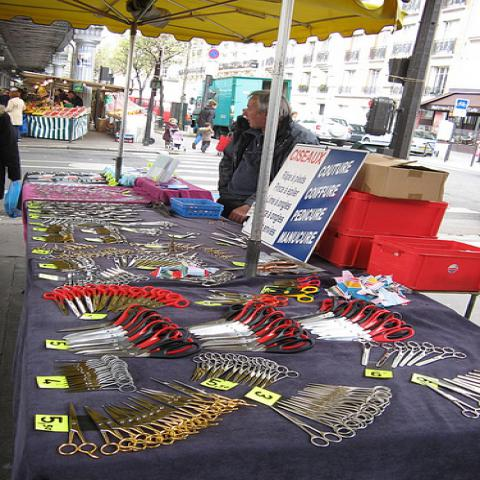car: (297, 117, 351, 147), (408, 129, 441, 157), (346, 124, 366, 142)
